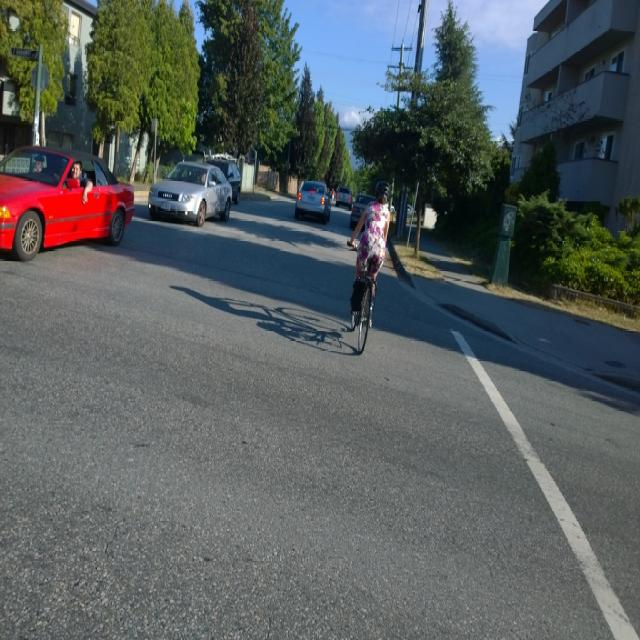Passenger Car: (0, 144, 134, 262), (146, 163, 235, 227), (291, 177, 331, 226), (336, 183, 353, 209)
